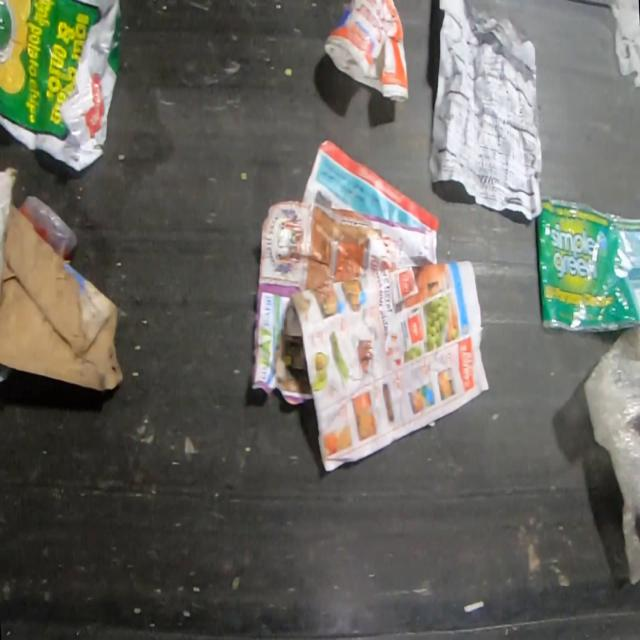cardboard: (0, 168, 124, 394)
rigid_plastic: (324, 0, 410, 104), (20, 194, 79, 256)
soft_plastic: (0, 0, 127, 176), (584, 328, 639, 583), (536, 198, 640, 332)
